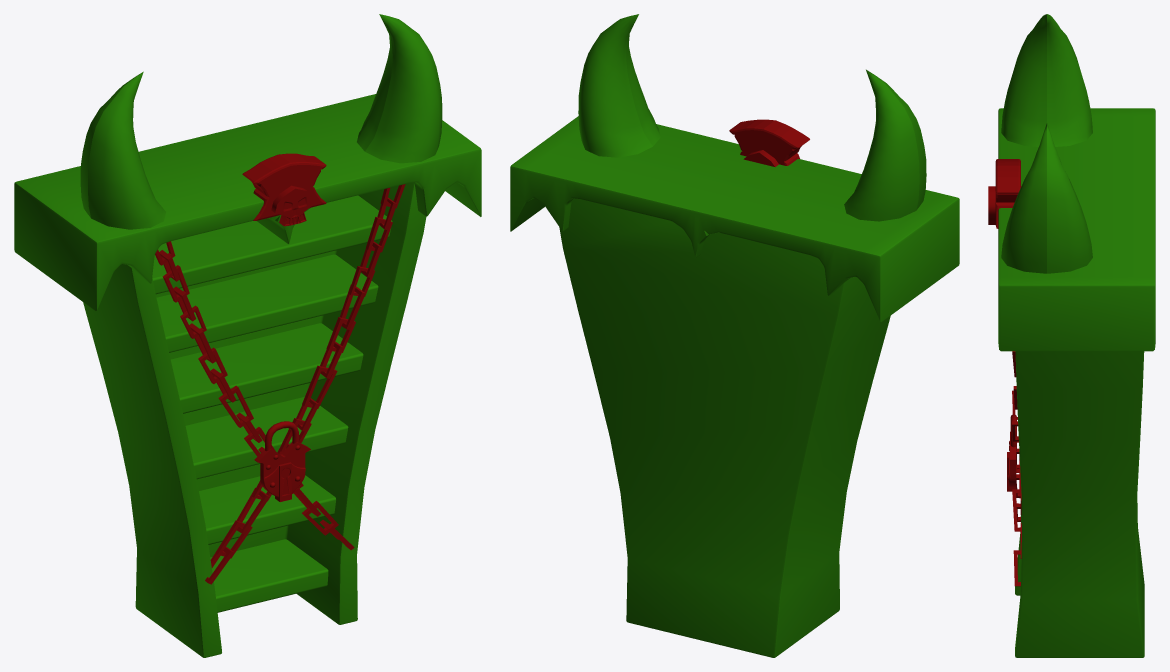
Rendered from libreria_ferran_arreglada2.fbx.
The picture shows the model from 3 angles, left to right: view 1: azimuth 30°, elevation 25°; view 2: azimuth 150°, elevation 25°; view 3: azimuth 270°, elevation 25°; orthographic projection. The views are drawn at different scales.
Visible parts, largest first — view 1: libreria, Box039, Box002, Cone004, Box063, Cone005, Line016, Box042; view 2: Box039, Box002, Cone005, Box063, Cone004; view 3: Box039, Box002, Cone005, Cone004, Box063, libreria, Line016, Box042.
Boxes of the visible parts, left/top/right/bottom form: libreria: left=152, top=184, right=405, bottom=612; Box039: left=83, top=182, right=426, bottom=657; Box002: left=14, top=94, right=481, bottom=310; Cone004: left=88, top=14, right=442, bottom=229; Box063: left=242, top=153, right=326, bottom=220; Cone005: left=80, top=29, right=392, bottom=217; Line016: left=254, top=442, right=310, bottom=501; Box042: left=271, top=185, right=315, bottom=226; Box039: left=559, top=198, right=890, bottom=657; Box002: left=510, top=116, right=959, bottom=321; Cone005: left=578, top=14, right=919, bottom=221; Box063: left=729, top=119, right=809, bottom=165; Cone004: left=626, top=30, right=926, bottom=210; Box039: left=1015, top=351, right=1144, bottom=657; Box002: left=998, top=108, right=1155, bottom=351; Cone005: left=1047, top=14, right=1092, bottom=273; Cone004: left=1001, top=14, right=1046, bottom=273; Box063: left=995, top=159, right=1020, bottom=228; libreria: left=1012, top=351, right=1021, bottom=586; Line016: left=1007, top=431, right=1016, bottom=491; Box042: left=988, top=186, right=1021, bottom=224.
Bounding box in the file's own units: 390 × 566 × 155.
